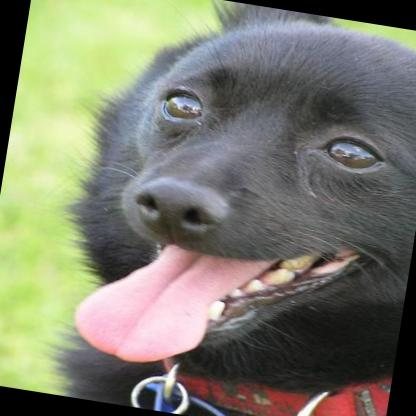schipperke: (31, 0, 416, 416)
